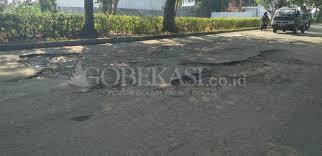Pothole: (16, 34, 318, 88)
